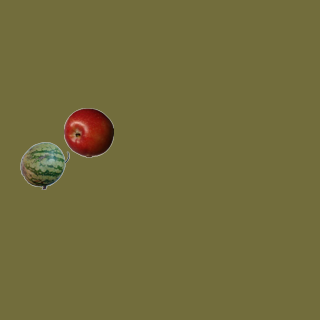Apple Braeburn: (63, 107, 113, 157)
Watermelon: (19, 140, 69, 190)
